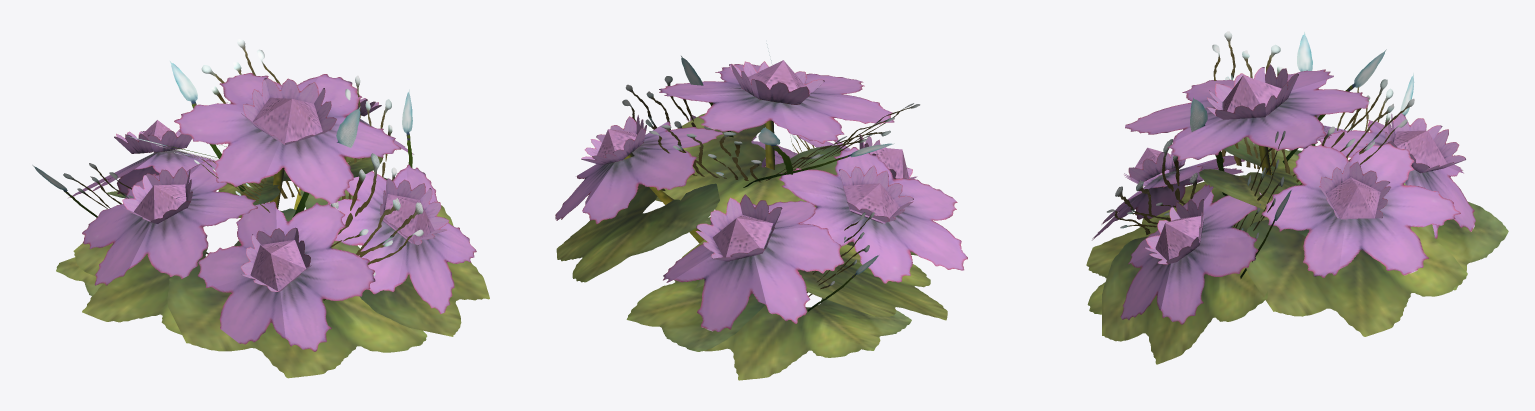
Rendered from Map_06_grass04.FBX.
The picture shows the model from 3 angles, left to right: view 1: azimuth 30°, elevation 25°; view 2: azimuth 150°, elevation 25°; view 3: azimuth 270°, elevation 25°; orthographic projection. The views are drawn at different scales.
Visible parts, largest first — view 1: Map_06_grass04; view 2: Map_06_grass04; view 3: Map_06_grass04.
Boxes of the visible parts, x1,y1,x2,y2 form: Map_06_grass04: (32,39,489,378); Map_06_grass04: (555,43,967,380); Map_06_grass04: (1086,31,1508,364).
Size of the model in its own units: 121 by 71.73 by 116.
Materials: 1 (1 with a texture image).
